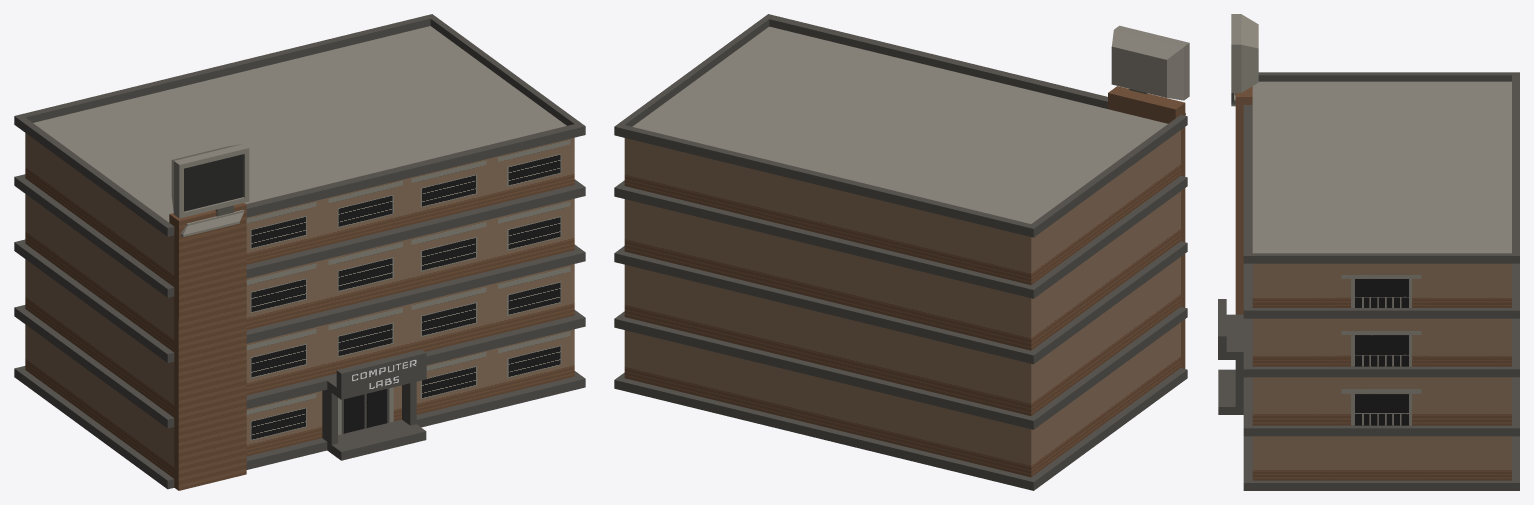
The model's file is qcu_bldg1.glb.
3 renders of one model, left to right at view 1: azimuth 30°, elevation 25°; view 2: azimuth 150°, elevation 25°; view 3: azimuth 270°, elevation 25°, orthographic. The views are drawn at different scales.
Visible parts, largest first — view 1: Cube; view 2: Cube; view 3: Cube.
Part boxes in pixels (x1,y1,x2,y2): Cube: (14,14,585,490); Cube: (614,14,1189,490); Cube: (1218,14,1519,490).
Size of the model in its own units: 4.34 by 3.26 by 3.01.
2 materials, 2 textured.
